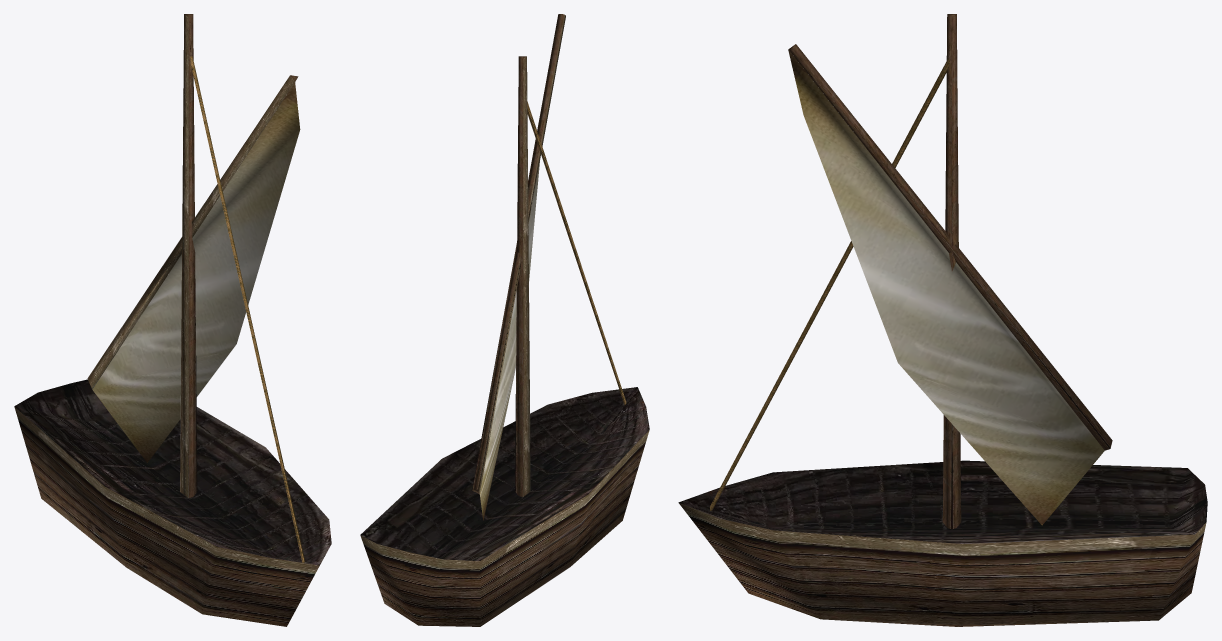
Rendered from NW_HARBOUR_SMALL_BOAT_02.glb.
The picture shows the model from 3 angles, left to right: view 1: azimuth 30°, elevation 25°; view 2: azimuth 150°, elevation 25°; view 3: azimuth 270°, elevation 25°; orthographic projection. The views are drawn at different scales.
Parts seen in each view (by area): view 1: Mesh; view 2: Mesh; view 3: Mesh.
Boxes of the visible parts, x1=… form: Mesh: x1=14, y1=14, x2=331, y2=626; Mesh: x1=360, y1=14, x2=649, y2=626; Mesh: x1=678, y1=14, x2=1207, y2=626.
Size of the model in its own units: 3.02 by 10.3 by 8.09.
Materials: 4 (4 with a texture image).
